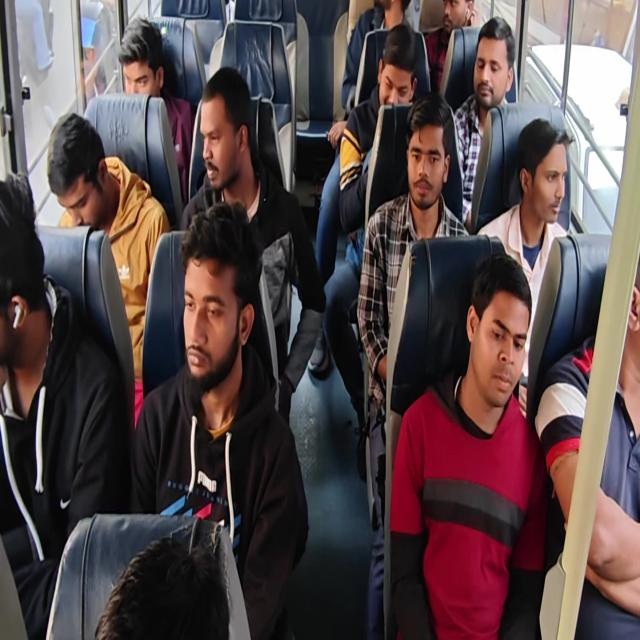person: (80, 554, 304, 640), (174, 230, 245, 392), (0, 176, 43, 372), (50, 123, 110, 230), (466, 298, 522, 406), (199, 88, 242, 198), (119, 23, 172, 107), (530, 128, 570, 226), (404, 112, 446, 205), (611, 237, 640, 368), (469, 26, 504, 115), (381, 38, 410, 117), (434, 0, 470, 44), (359, 0, 417, 25)
